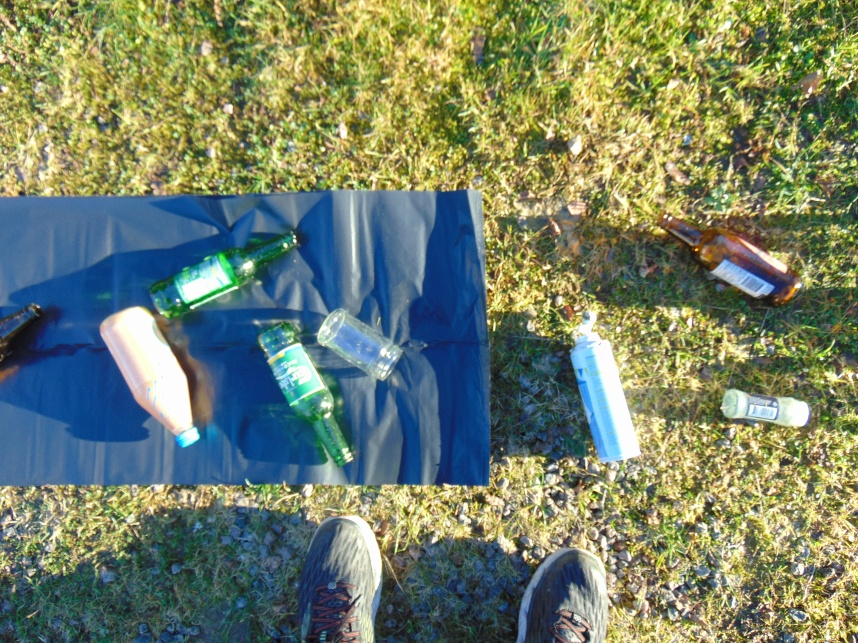glass_bottle: (255, 317, 359, 472), (146, 230, 301, 320), (100, 306, 199, 446), (654, 212, 802, 305), (315, 308, 404, 379), (722, 389, 811, 434), (1, 300, 46, 379)
metal_can: (569, 332, 642, 464)
